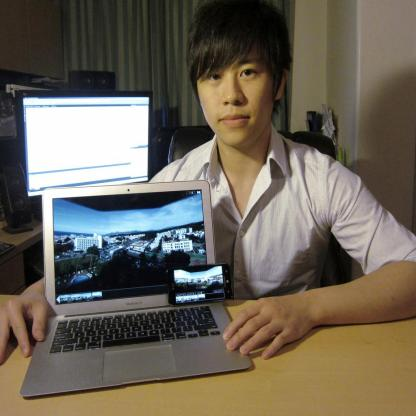board: (19, 172, 245, 396)
